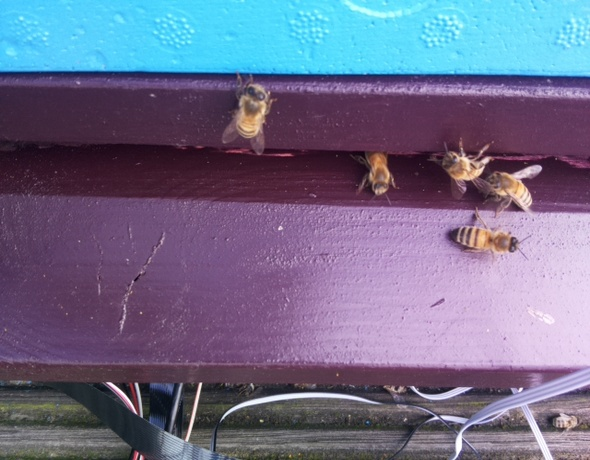no_pollen: (220, 76, 274, 156), (447, 220, 526, 263), (478, 167, 539, 215), (438, 144, 496, 188), (357, 149, 398, 200)
